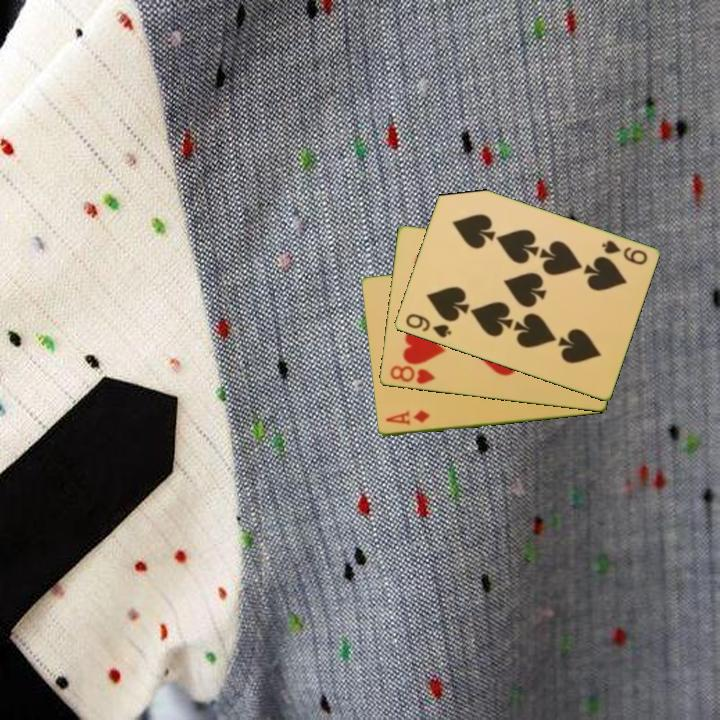8h: (386, 362, 439, 387)
9s: (402, 310, 454, 341), (598, 237, 650, 268)
Ad: (382, 407, 432, 429)
